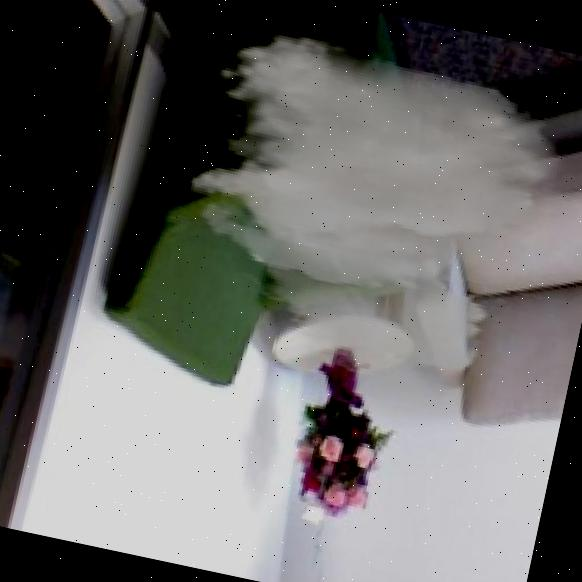smoke: (150, 17, 582, 438)
